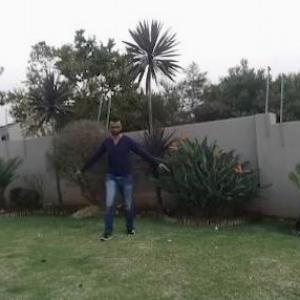land: (74, 106, 180, 240)
